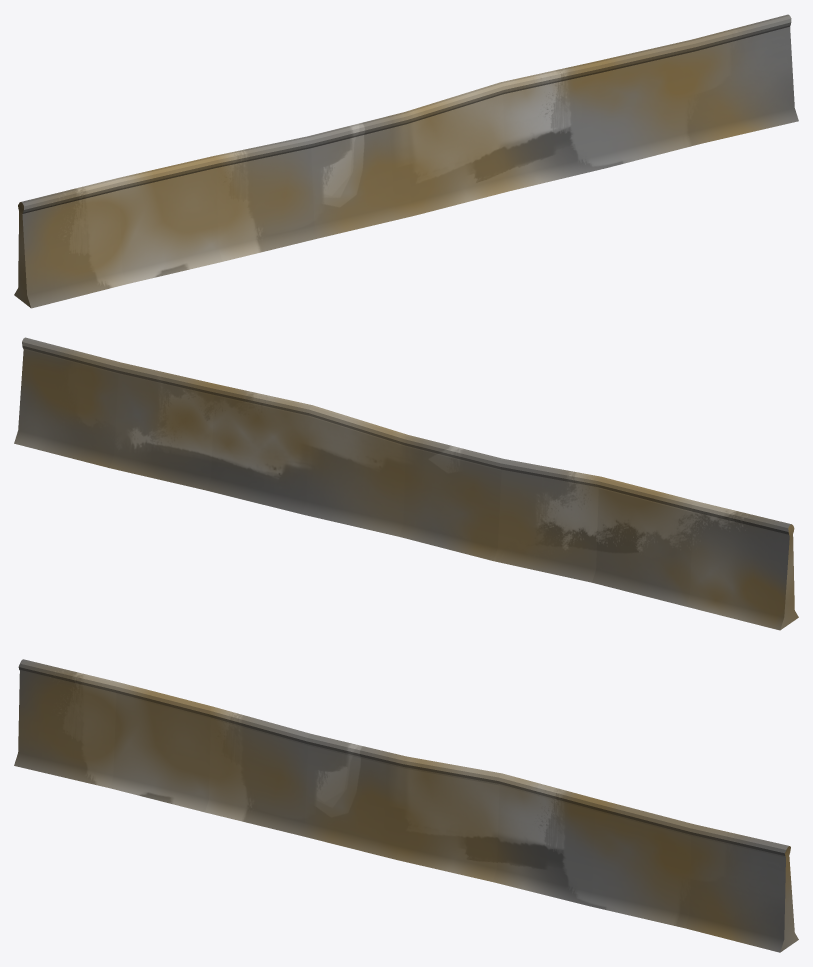
Rendered from wall_long.fbx.
3 views of the same model, one above another, from view 1: azimuth 30°, elevation 25°; view 2: azimuth 150°, elevation 25°; view 3: azimuth 330°, elevation 25° (orthographic).
Parts seen in each view (by area): view 1: wall_long; view 2: wall_long; view 3: wall_long.
Boxes of the visible parts, bbox=[...] form: wall_long: bbox=[14, 14, 798, 308]; wall_long: bbox=[14, 337, 798, 630]; wall_long: bbox=[14, 659, 798, 952].
Size of the model in its own units: 152 by 19.3 by 6.93.
